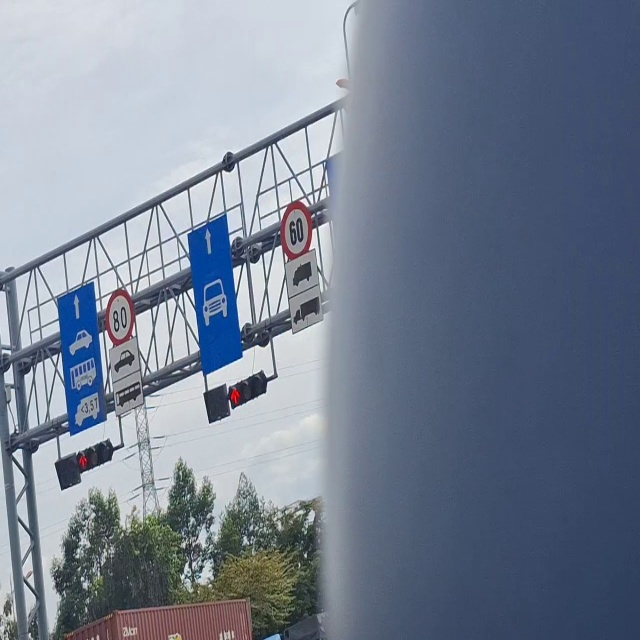toc do toi da 60km/h: (263, 195, 331, 258)
